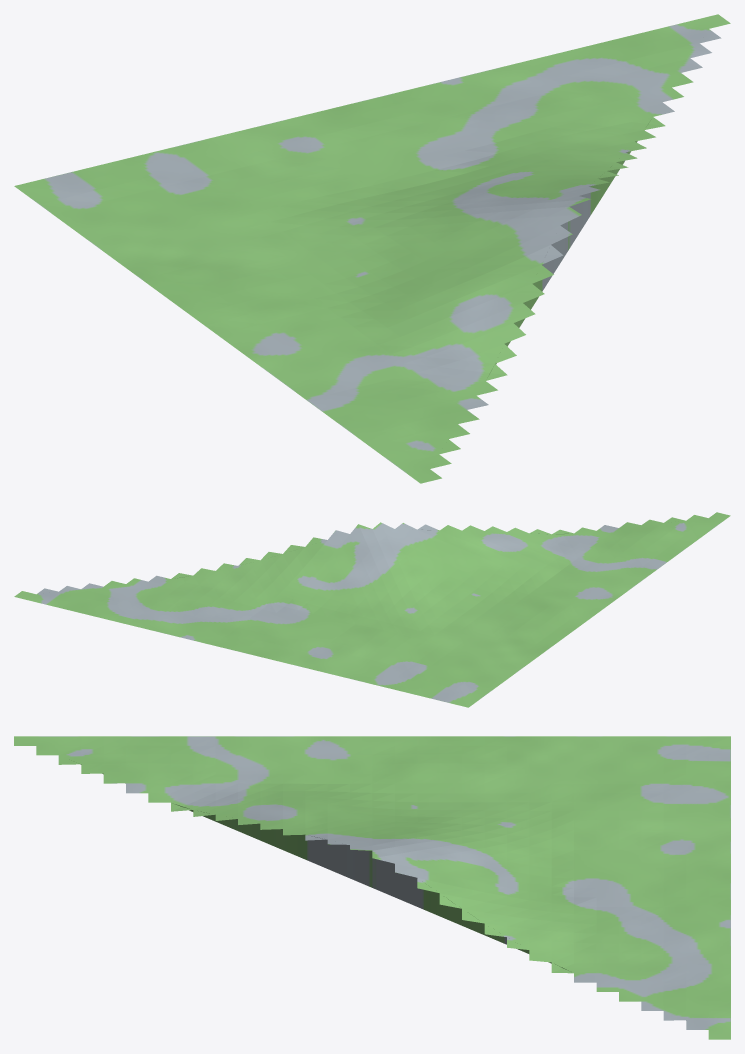
Rendered from Grass_RockyGround_02_SW.obj.
3 renders of one model, top to bottom at view 1: azimuth 30°, elevation 25°; view 2: azimuth 150°, elevation 25°; view 3: azimuth 270°, elevation 25°, orthographic. The views are drawn at different scales.
Size of the model in its own units: 10 by 0.6039 by 10.
Materials: 1 (1 with a texture image).
